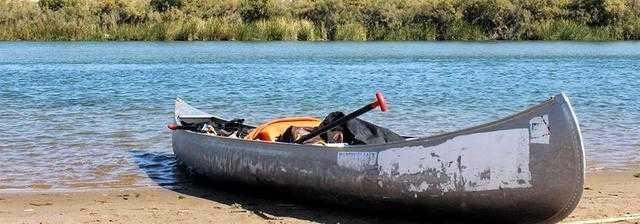kayak: (167, 92, 584, 221)
